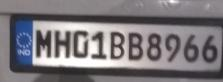0: (72, 30, 90, 58)
1: (91, 31, 108, 60)
6: (202, 33, 220, 63), (184, 33, 200, 62)
8: (146, 32, 163, 62)
9: (165, 32, 182, 63)
B: (128, 32, 144, 61), (110, 32, 126, 60)
H: (54, 29, 70, 59)
M: (35, 28, 52, 56)
